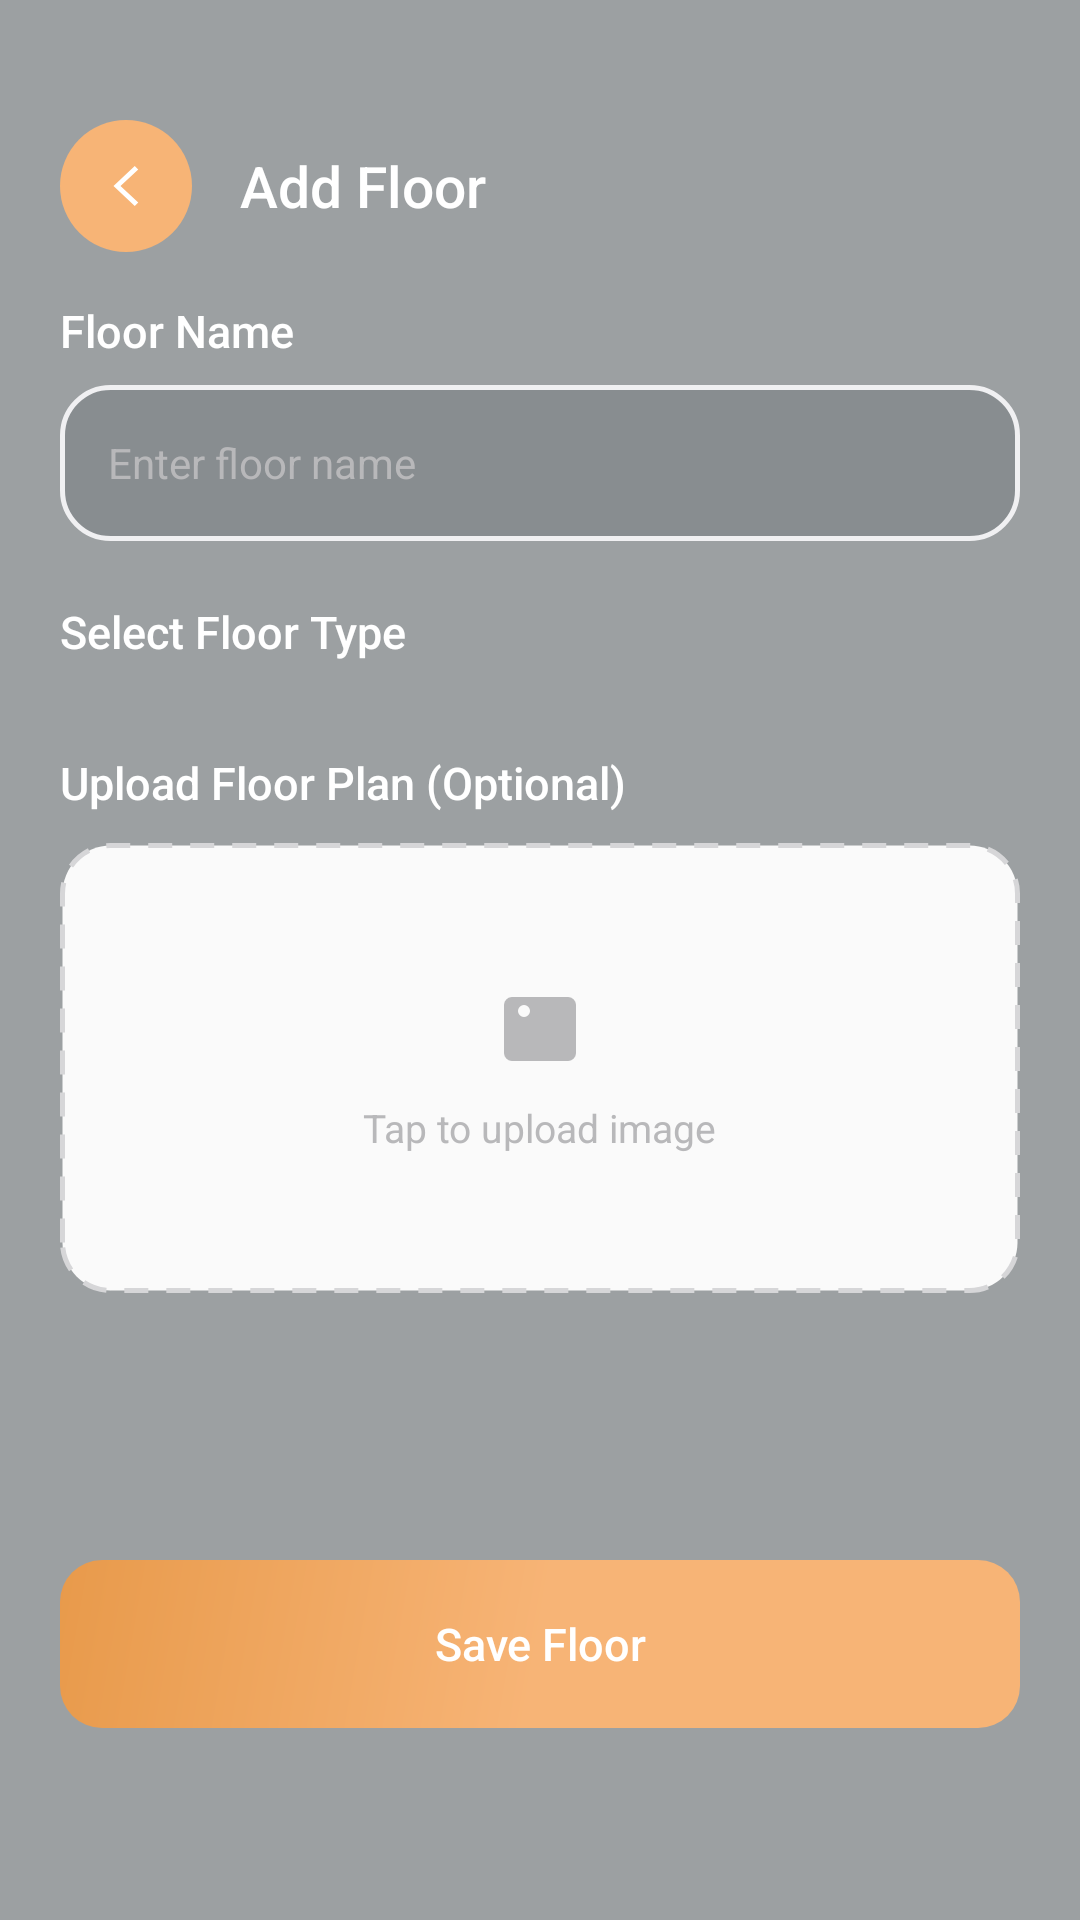

Icons on this 1080 × 1920 Android screen, each with its box as (x1, y1, x2, y2):
back: (114, 166, 138, 206)
